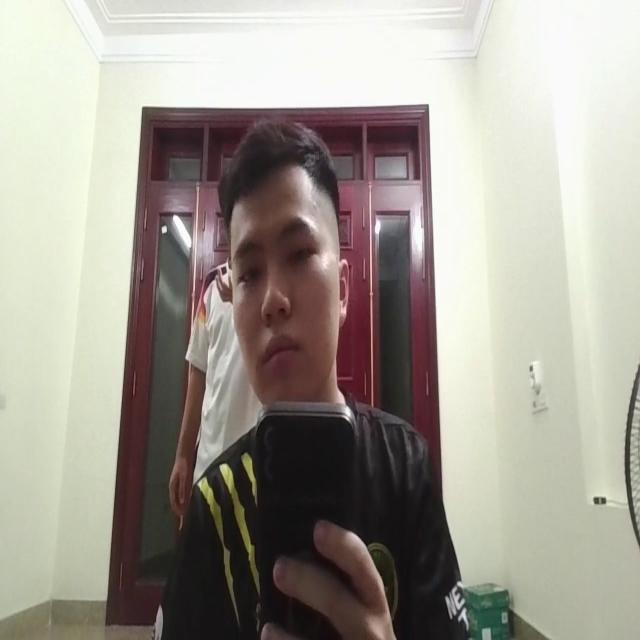phone: (255, 389, 358, 630)
student: (178, 123, 456, 640)
